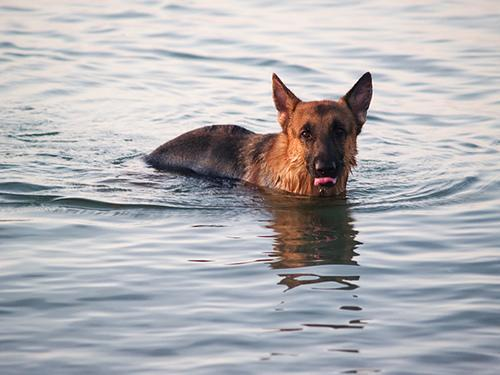German_shepherd: (142, 67, 374, 201)
